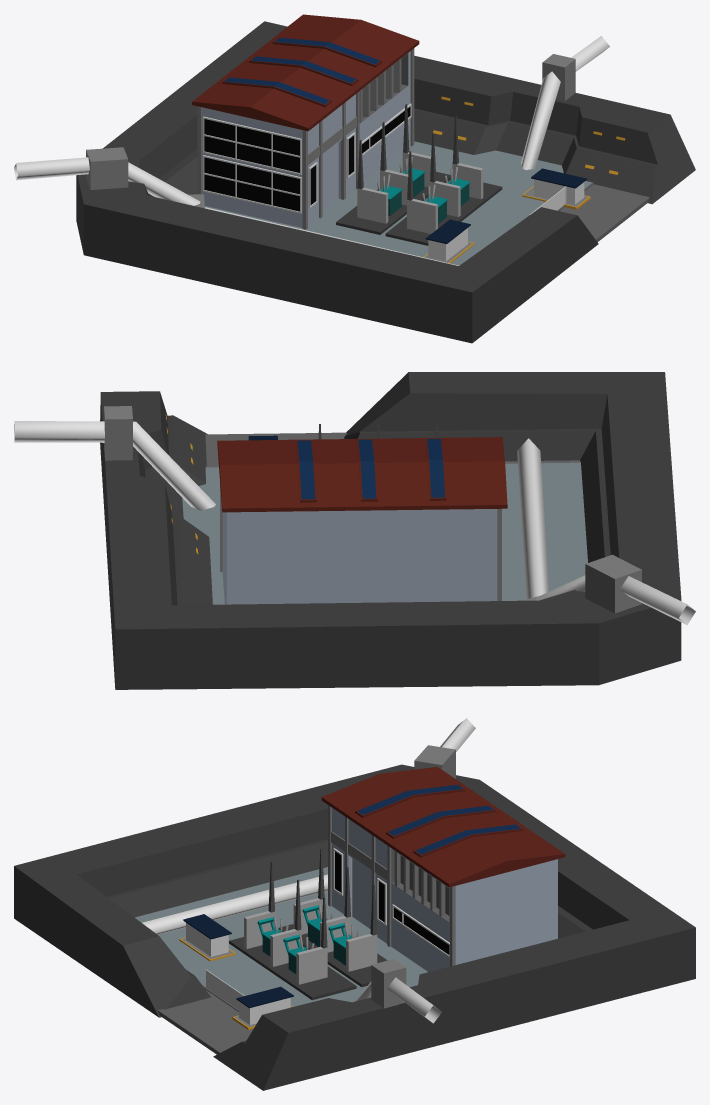
Rendered from Mini_B5.glb.
3 views of the same model, one above another, from view 1: azimuth 30°, elevation 25°; view 2: azimuth 150°, elevation 25°; view 3: azimuth 270°, elevation 25° (orthographic). The views are drawn at different scales.
Parts seen in each view (by area): view 1: B5; view 2: B5; view 3: B5.
Boxes of the visible parts, box(x1,y1,x2,y2) form: B5: box(14, 14, 695, 343); B5: box(14, 372, 695, 689); B5: box(14, 718, 695, 1090).
Size of the model in its own units: 8.34 by 1.77 by 8.16.
